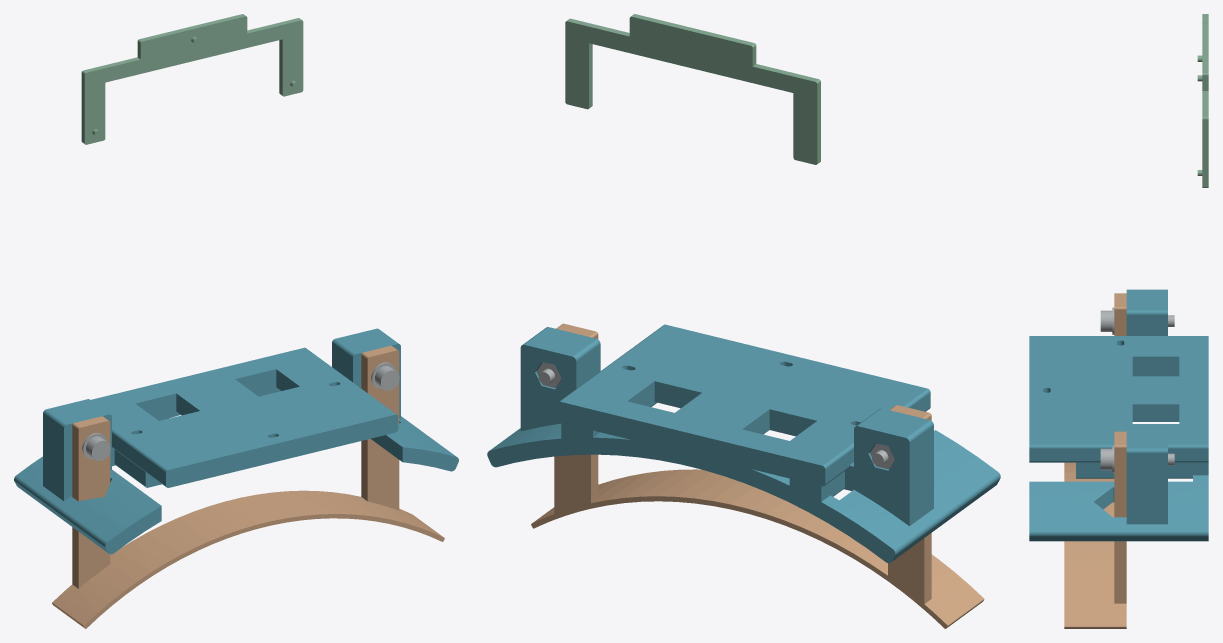
The model's file is R09_ASSIEME_CON_FERRAMENTA_SCHEMATICA.glb.
3 views of the same model, side by side, from view 1: azimuth 30°, elevation 25°; view 2: azimuth 150°, elevation 25°; view 3: azimuth 270°, elevation 25° (orthographic). The views are drawn at different scales.
Visible parts, largest first — view 1: base_appoggi, ponte_terminale, dima_interasse; view 2: base_appoggi, ponte_terminale, dima_interasse; view 3: base_appoggi, ponte_terminale, dima_interasse, vite_M3x16_2, vite_M3x16_1.
Boxes of the visible parts, left/top/right/bottom form: base_appoggi: left=14, top=328, right=458, bottom=554; ponte_terminale: left=52, top=345, right=444, bottom=628; dima_interasse: left=81, top=14, right=303, bottom=144; base_appoggi: left=487, top=324, right=1000, bottom=563; ponte_terminale: left=531, top=323, right=984, bottom=628; dima_interasse: left=565, top=14, right=820, bottom=164; base_appoggi: left=1029, top=289, right=1208, bottom=541; ponte_terminale: left=1064, top=293, right=1126, bottom=628; dima_interasse: left=1197, top=14, right=1208, bottom=187; vite_M3x16_2: left=1100, top=448, right=1174, bottom=470; vite_M3x16_1: left=1100, top=310, right=1174, bottom=331.
Bounding box in the file's own units: 0.105 × 0.1403 × 0.046.
